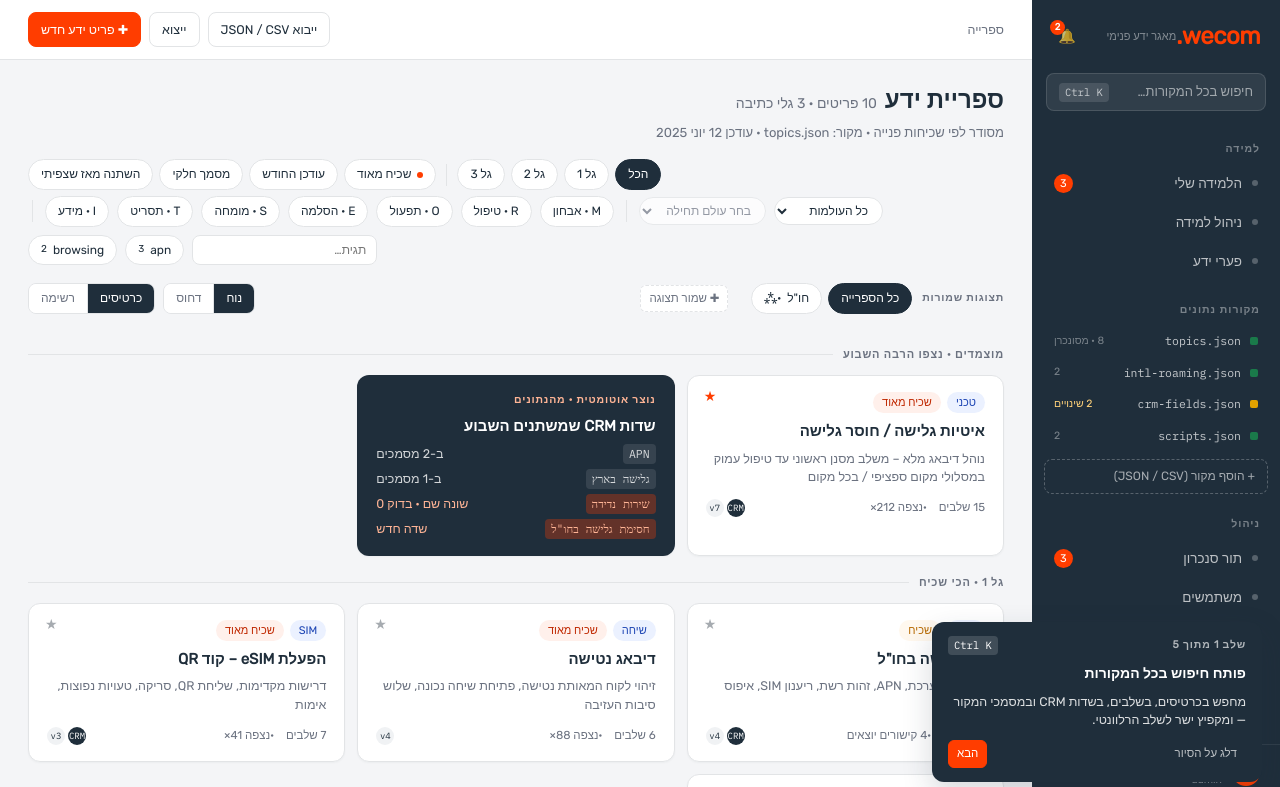
Test: scripts are type-T documents › is reachable from the sidebar scripts.json row, which counts the type-T documents
(page scrolled)
Click the text "scripts.json": (1200, 436) x1=1158 y1=427 x2=1241 y2=445
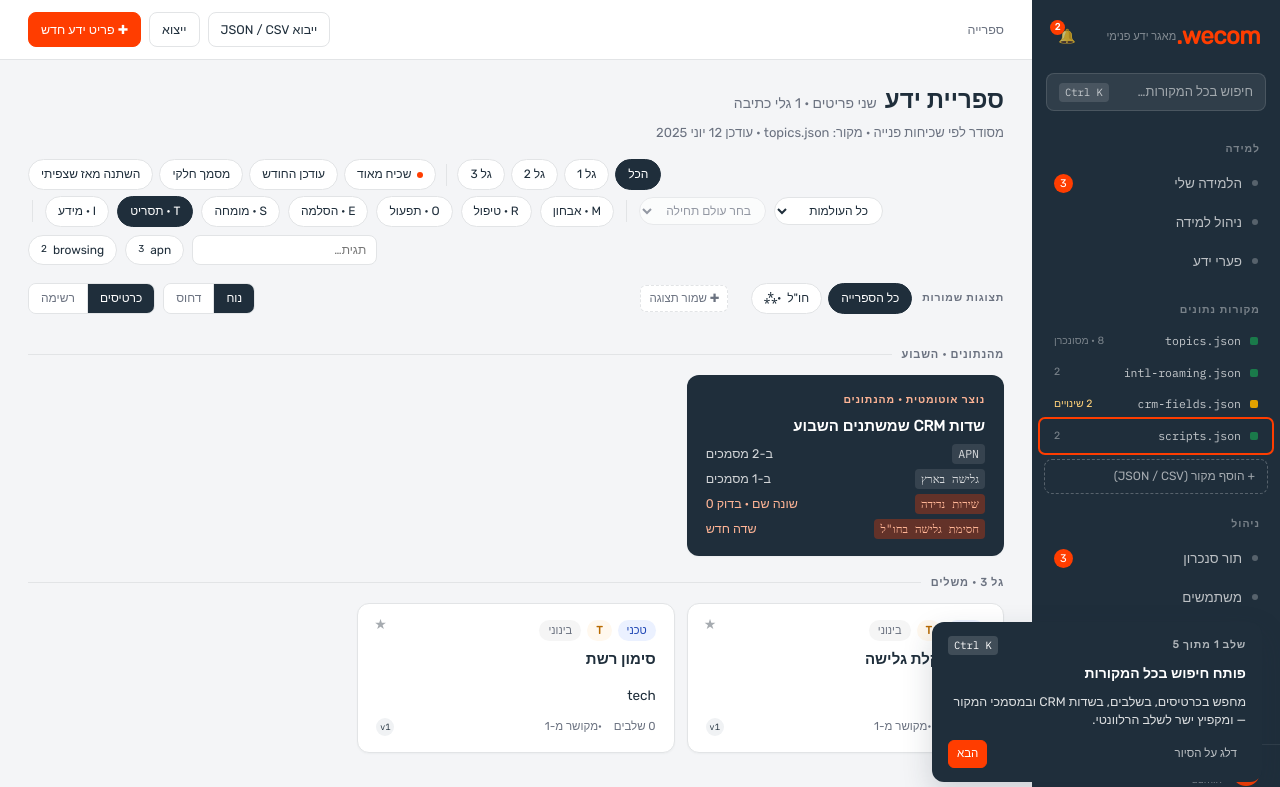
Check: the text "סיווג תקלת גלישה" is shown, box x1=865 y1=650 x2=985 y2=668
